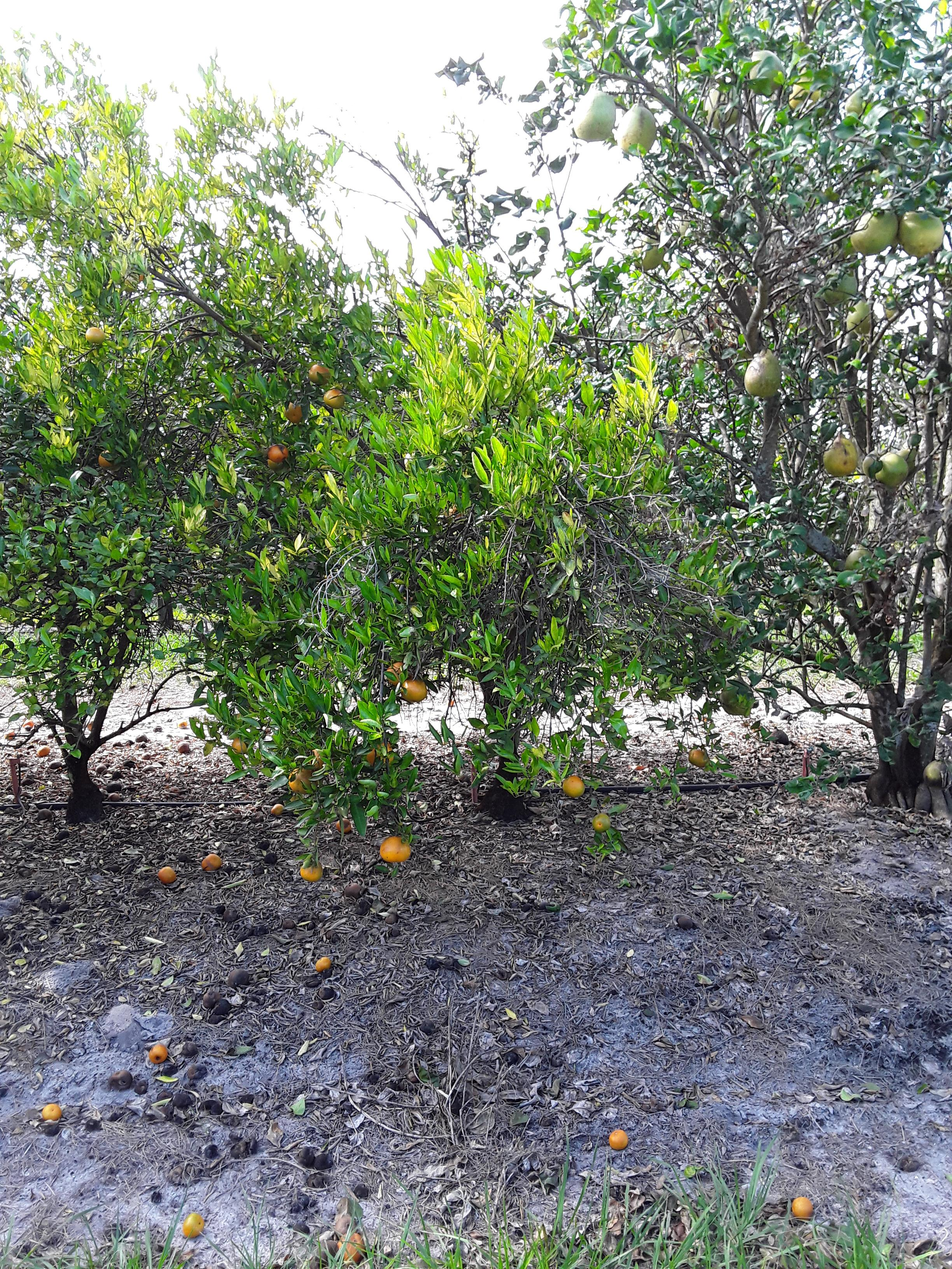fruit_on_ground: (848, 195, 900, 260), (782, 56, 838, 116), (566, 84, 621, 145), (612, 101, 663, 158), (896, 203, 945, 260), (744, 42, 790, 93), (700, 79, 743, 131), (718, 669, 759, 717), (742, 356, 780, 403), (821, 435, 857, 482), (843, 547, 883, 586), (842, 295, 877, 337), (847, 295, 878, 341), (880, 449, 912, 492), (442, 494, 474, 529), (364, 739, 399, 771), (635, 239, 664, 275), (842, 86, 870, 119), (94, 443, 129, 469), (287, 769, 318, 798), (399, 676, 430, 704), (686, 744, 713, 773), (560, 773, 590, 799), (320, 385, 348, 411), (386, 657, 412, 684), (82, 324, 109, 349), (305, 362, 336, 383), (591, 809, 615, 836), (288, 406, 310, 432), (304, 748, 331, 769), (301, 857, 322, 884), (265, 454, 289, 477), (244, 564, 266, 587), (229, 736, 253, 757), (266, 440, 285, 466), (199, 493, 224, 512), (266, 800, 288, 820), (133, 262, 150, 284)
fruit_on_tree: (331, 1228, 369, 1267), (788, 1192, 818, 1222), (106, 1066, 136, 1095), (230, 1128, 253, 1164), (381, 833, 406, 866), (181, 1209, 206, 1241), (283, 1186, 311, 1214), (314, 1238, 342, 1266), (606, 1125, 633, 1153), (303, 1169, 332, 1193), (38, 1102, 66, 1126), (226, 966, 254, 989), (201, 849, 226, 873), (342, 879, 366, 902), (156, 861, 178, 886), (147, 1039, 169, 1064), (200, 988, 224, 1010), (172, 1090, 196, 1112), (769, 726, 794, 747), (312, 955, 337, 976), (317, 983, 340, 1005), (297, 1143, 317, 1168), (314, 1151, 336, 1173), (79, 1116, 102, 1137), (180, 1037, 200, 1061), (211, 996, 233, 1017), (200, 1099, 225, 1117), (673, 912, 694, 933), (332, 814, 354, 834), (221, 905, 241, 926), (502, 1046, 521, 1068), (159, 1061, 181, 1080), (154, 1087, 177, 1105), (40, 1122, 63, 1140), (156, 1103, 175, 1124), (239, 1090, 257, 1112), (353, 1179, 371, 1201), (301, 973, 324, 990), (186, 1063, 209, 1080), (292, 1220, 312, 1239), (132, 1077, 150, 1097), (418, 1019, 437, 1037), (404, 1066, 422, 1084), (106, 778, 125, 795), (54, 900, 73, 916), (23, 887, 43, 902), (425, 952, 439, 973), (35, 808, 54, 823), (36, 745, 53, 761), (175, 849, 192, 865), (262, 850, 278, 867), (202, 1142, 220, 1157), (382, 912, 400, 926), (551, 1052, 565, 1070), (177, 739, 192, 755), (47, 914, 64, 928), (2, 727, 17, 742), (19, 776, 35, 790), (208, 1012, 224, 1026), (55, 829, 72, 842), (368, 1069, 380, 1087), (167, 781, 182, 795), (355, 901, 369, 916), (48, 760, 65, 772), (106, 863, 123, 875), (214, 902, 228, 916), (21, 718, 36, 731), (97, 786, 110, 801), (123, 757, 137, 770), (18, 866, 32, 879), (520, 900, 533, 914), (324, 926, 336, 941), (135, 732, 148, 745), (177, 717, 189, 731), (88, 717, 98, 733), (330, 932, 343, 944), (142, 762, 156, 773), (539, 898, 550, 911), (388, 928, 401, 939), (123, 736, 133, 750), (95, 763, 109, 773), (111, 792, 121, 806), (18, 759, 30, 770), (112, 736, 121, 749), (152, 725, 164, 734), (143, 751, 154, 760), (24, 724, 34, 732)
